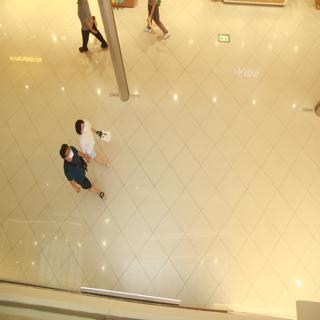person: (49, 141, 115, 209), (75, 111, 112, 166)
